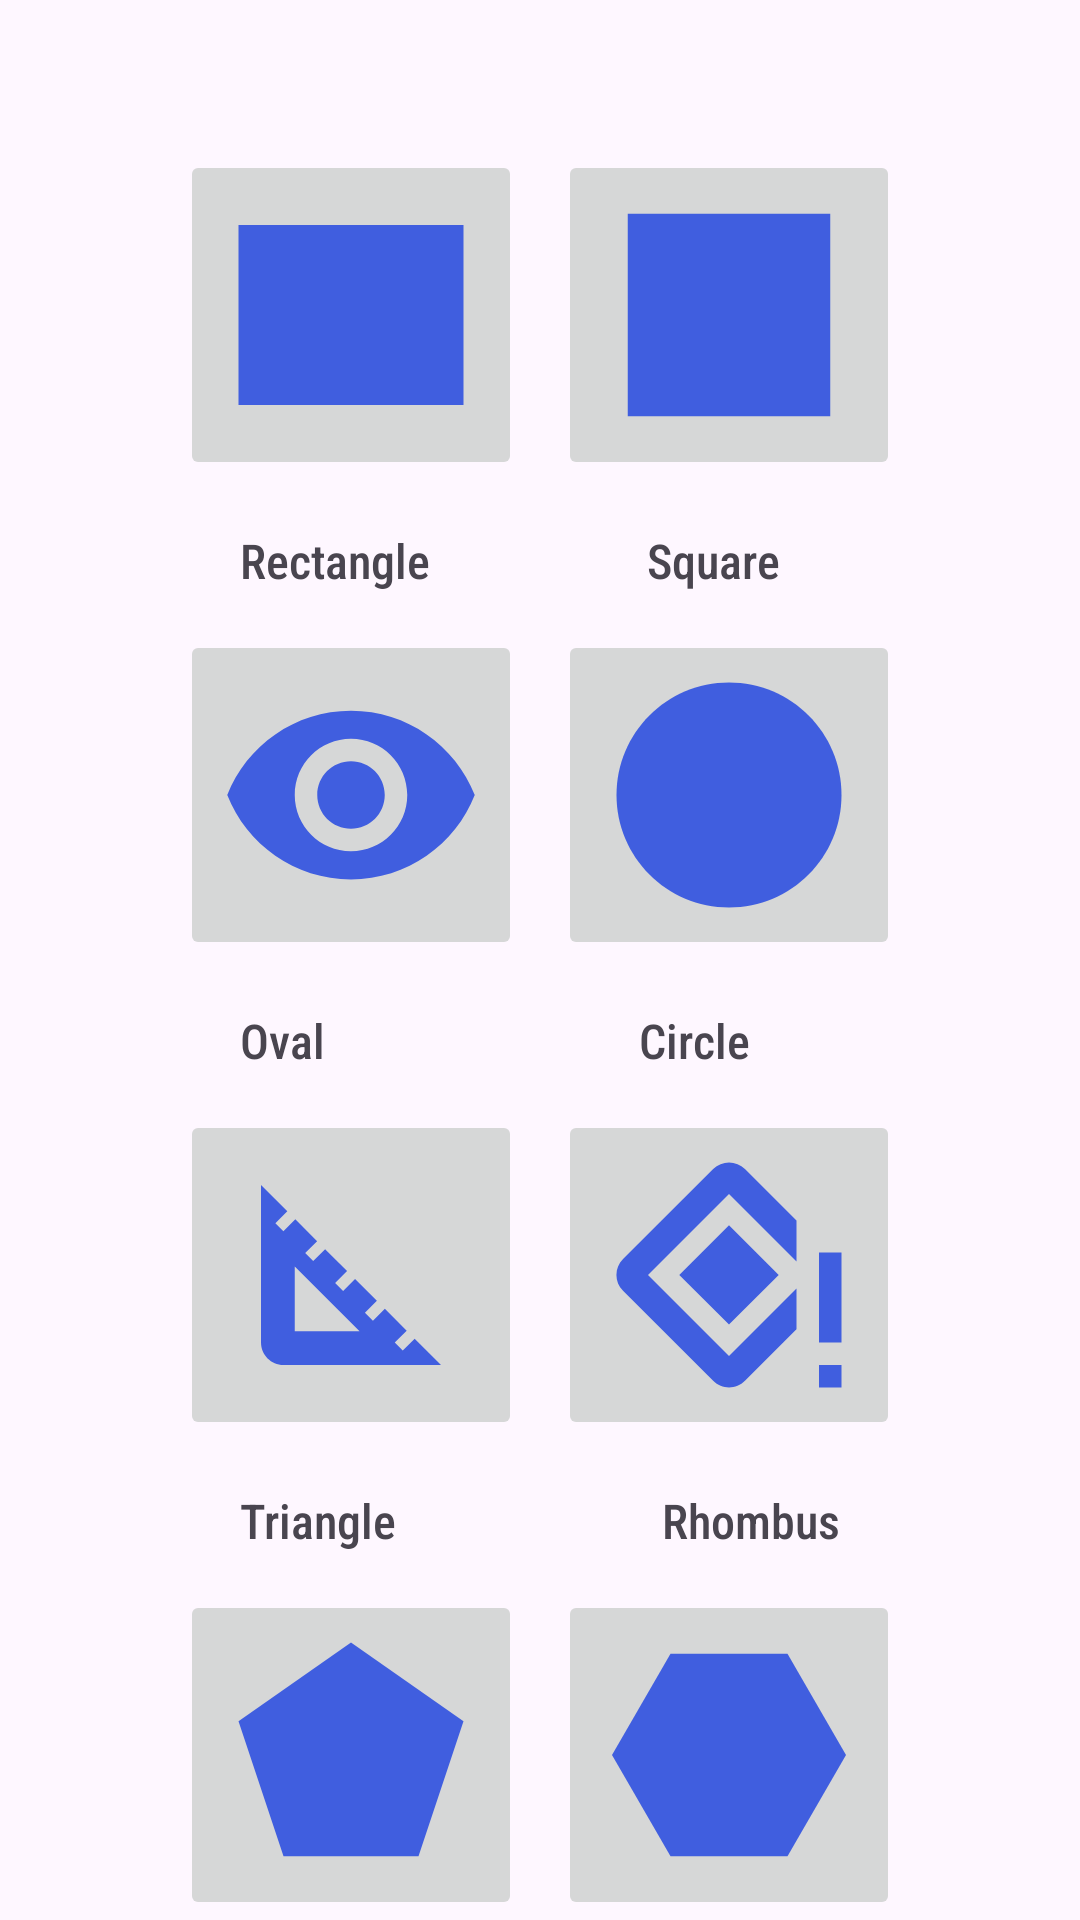

Locate icon controls on the screen. Image size 1080×1920, boxes as (x1, y1, x2, y2).
hexagon: (570, 1608, 888, 1902)
nearby error: (570, 1128, 888, 1422)
pentagon: (192, 1608, 510, 1902)
square foot: (192, 1128, 510, 1422)
